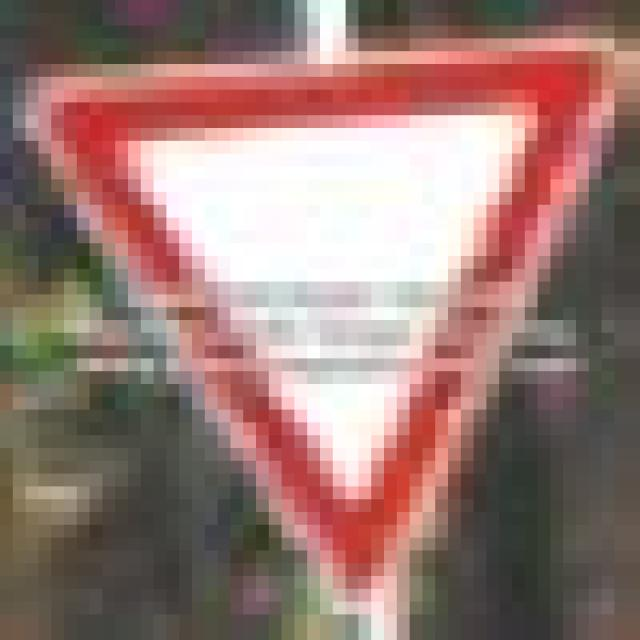gap_in_median: (12, 39, 602, 602)
